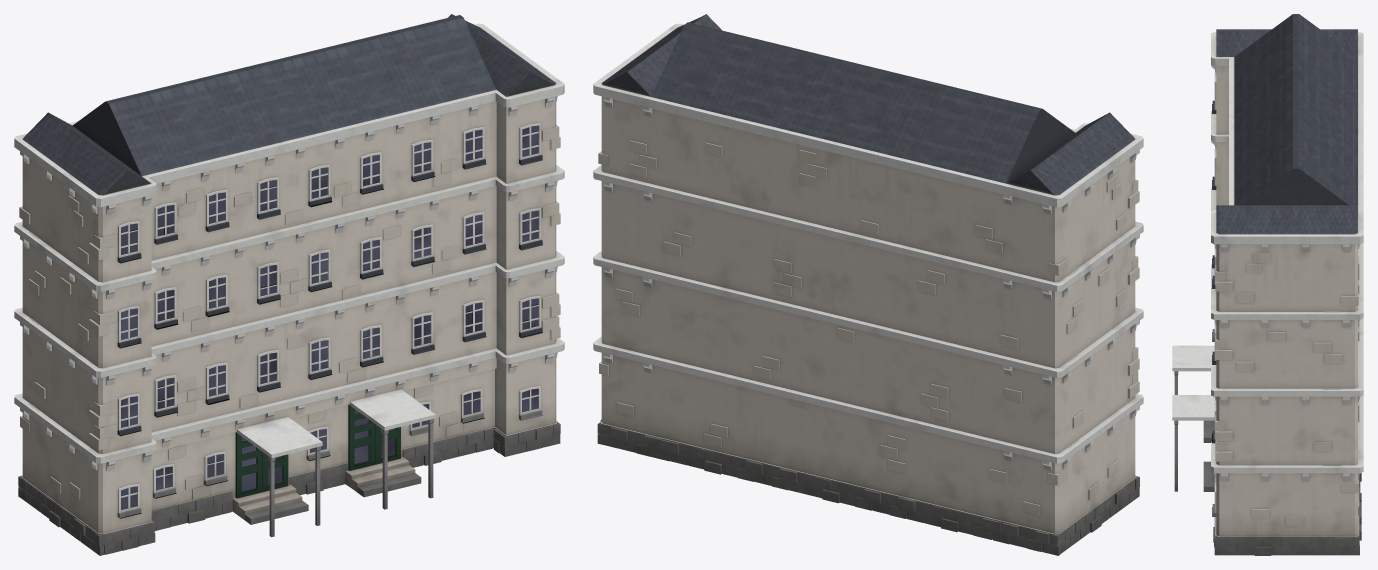
The model's file is 4Story_Wide_2Doors_Roof.glb.
3 renders of one model, left to right at view 1: azimuth 30°, elevation 25°; view 2: azimuth 150°, elevation 25°; view 3: azimuth 270°, elevation 25°, orthographic. The views are drawn at different scales.
Parts seen in each view (by area): view 1: 4Story_Wide_2Doors_Roof_high; view 2: 4Story_Wide_2Doors_Roof_high; view 3: 4Story_Wide_2Doors_Roof_high.
Boxes of the visible parts, bbox=[...] form: 4Story_Wide_2Doors_Roof_high: bbox=[14, 14, 564, 555]; 4Story_Wide_2Doors_Roof_high: bbox=[593, 14, 1143, 555]; 4Story_Wide_2Doors_Roof_high: bbox=[1172, 14, 1363, 555].
Bounding box in the file's own units: 6.83 × 5.68 × 2.7.
2 materials, 2 textured.
